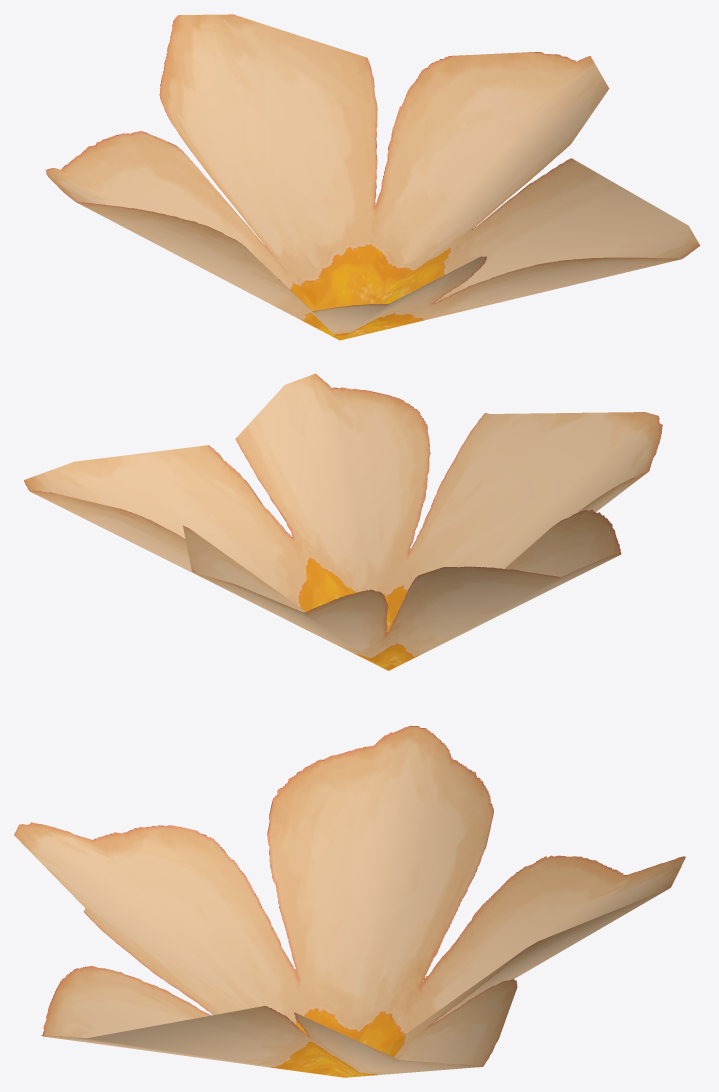
File: Petal_2.glb
The picture shows the model from 3 angles, top to bottom: view 1: azimuth 30°, elevation 25°; view 2: azimuth 150°, elevation 25°; view 3: azimuth 270°, elevation 25°; orthographic projection. The views are drawn at different scales.
Parts seen in each view (by area): view 1: Petal_2; view 2: Petal_2; view 3: Petal_2.
Boxes of the visible parts, left/top/right/bottom form: Petal_2: left=45, top=14, right=700, bottom=340; Petal_2: left=24, top=373, right=662, bottom=670; Petal_2: left=14, top=725, right=685, bottom=1077.
Bounding box in the file's own units: 0.6732 × 0.2361 × 0.6311.
1 material, 1 textured.
